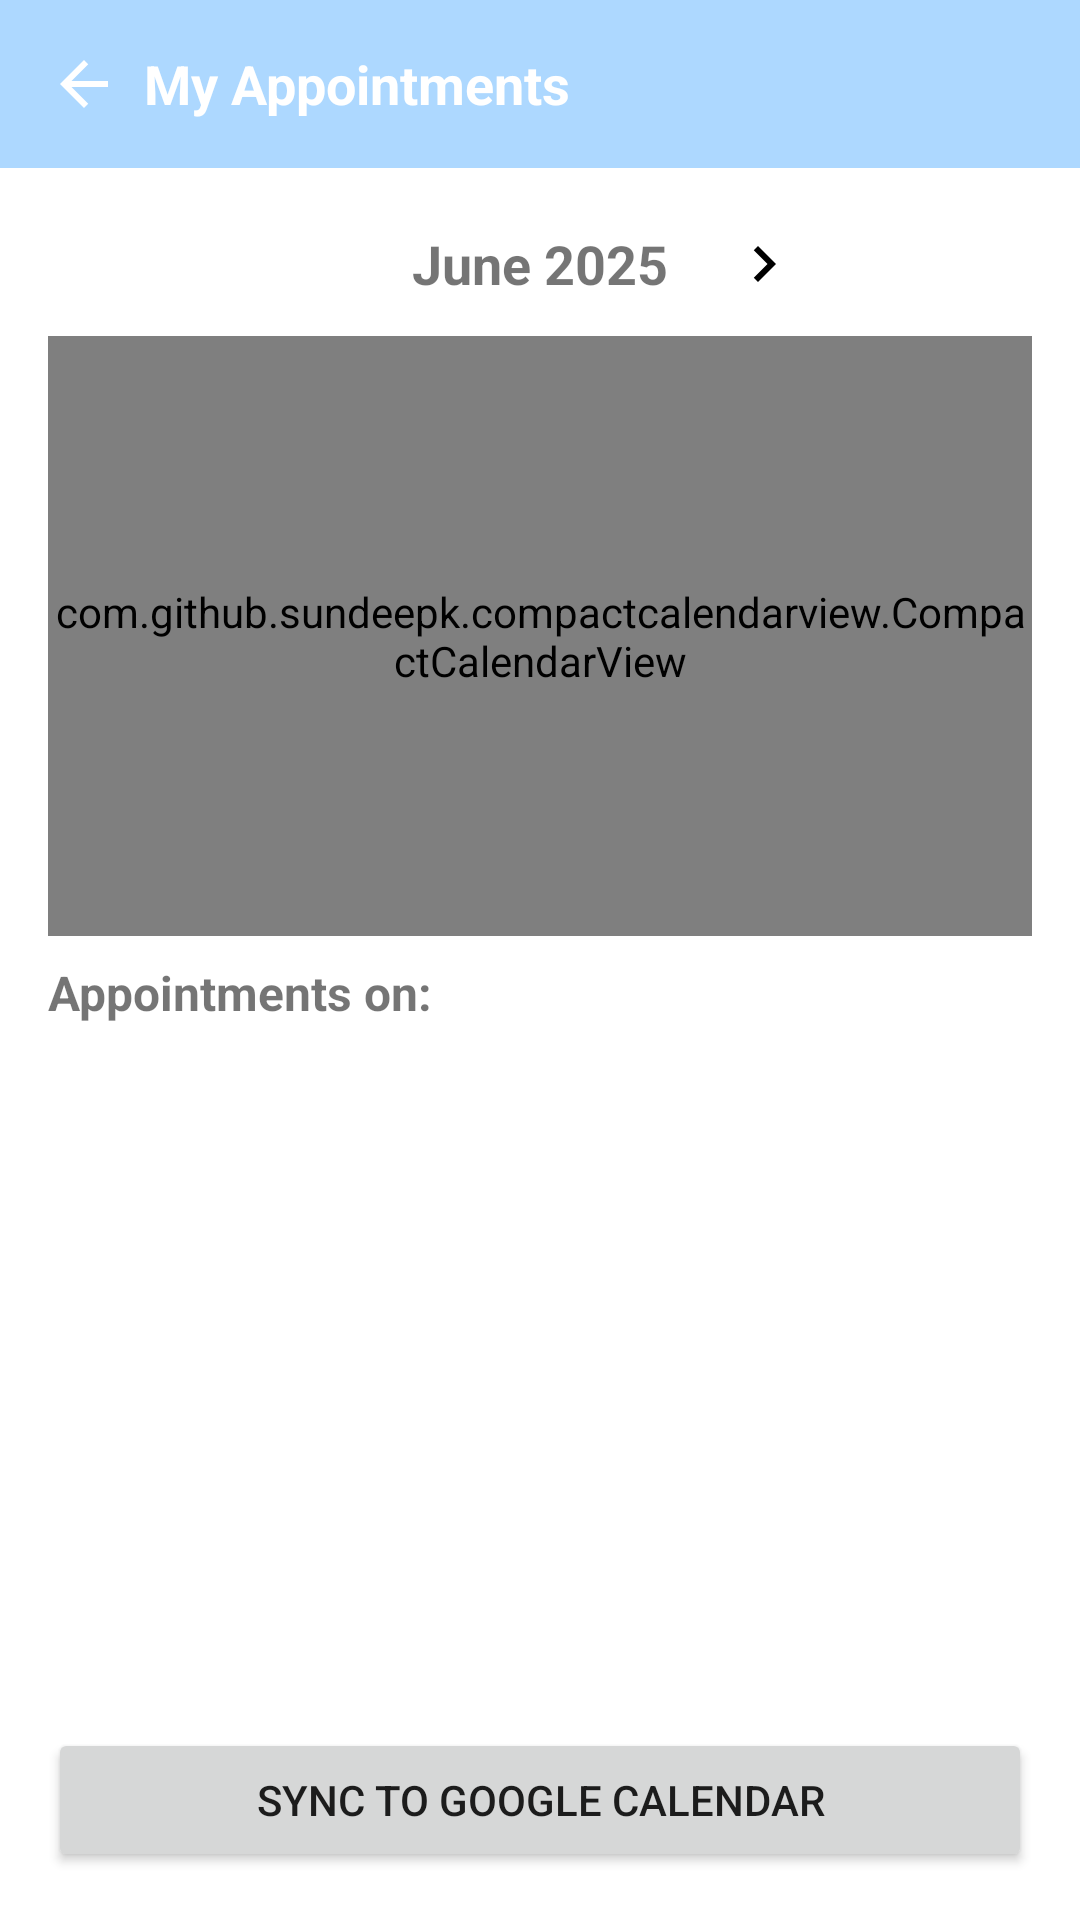

Locate icon controls on the screen. Image size 1080px x 1920px, boxes as (x1, y1, x2, y2).
Back: (60, 60, 108, 108)
Next Month: (754, 246, 776, 282)
